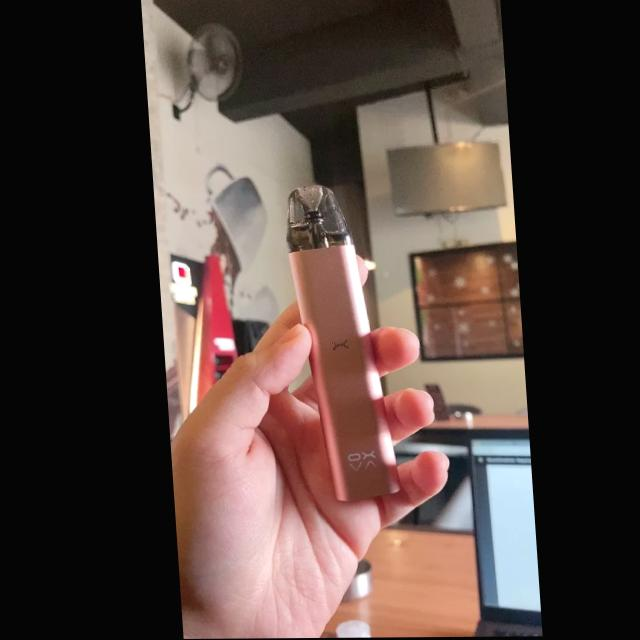vape: (276, 183, 398, 503)
